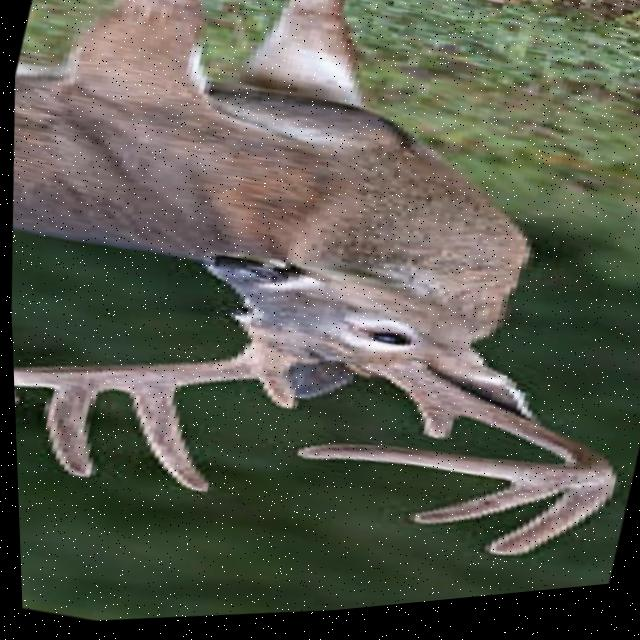L-F: (287, 369, 617, 499)
L-G1: (407, 407, 457, 450)
L-G2: (477, 499, 614, 568)
L-G3: (403, 491, 559, 534)
R-F: (11, 346, 317, 407)
R-G1: (251, 382, 297, 418)
R-G2: (124, 391, 207, 499)
R-G3: (37, 389, 105, 482)
